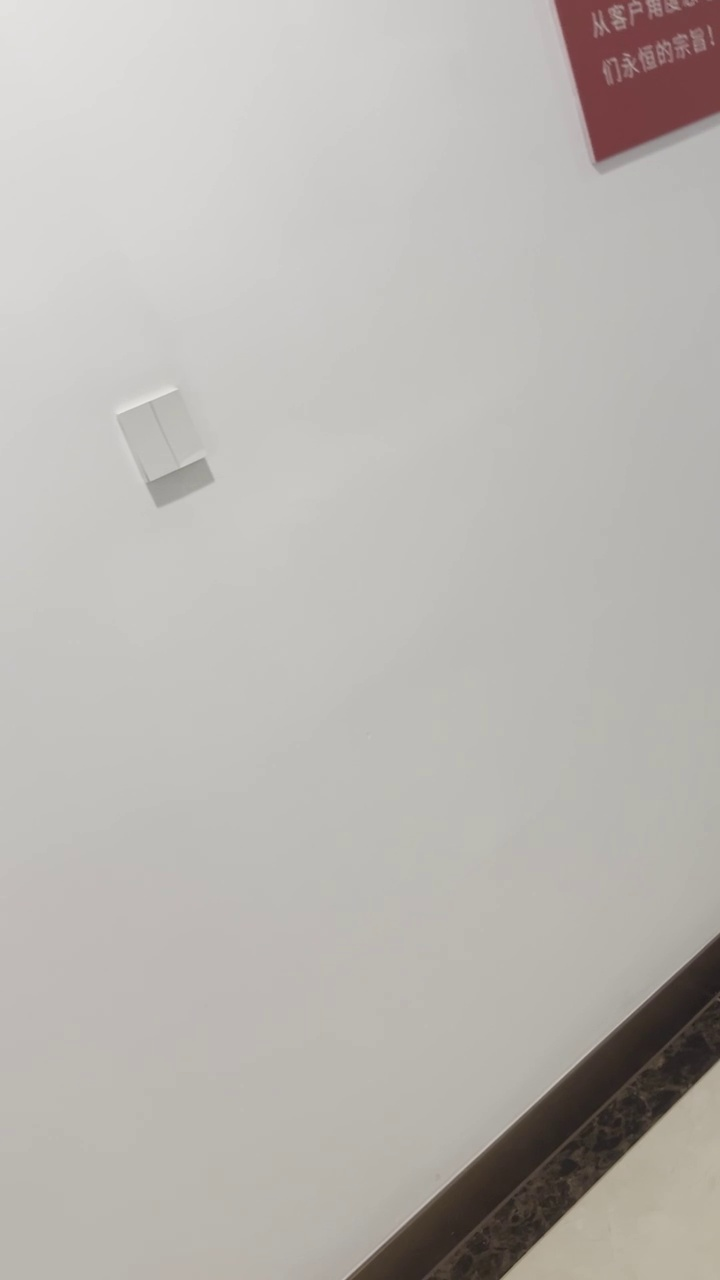button: (115, 384, 211, 484)
